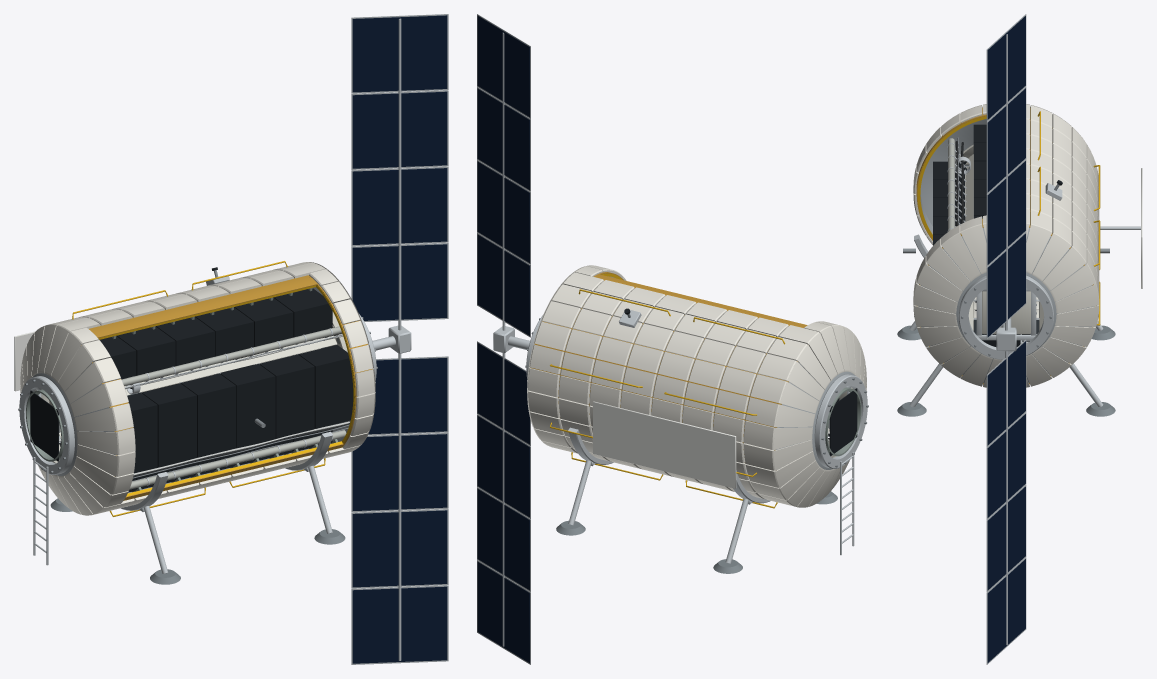
The model's file is habitat.glb.
The picture shows the model from 3 angles, left to right: view 1: azimuth 30°, elevation 25°; view 2: azimuth 150°, elevation 25°; view 3: azimuth 270°, elevation 25°; orthographic projection. The views are drawn at different scales.
Visible parts, largest first — view 1: Shell, OrbitKit_WingA, OrbitKit_WingB, FrontWall, Interior, SurfaceKit, OrbitKit; view 2: Shell, OrbitKit_WingA, OrbitKit_WingB, OrbitKit_Radiator, SurfaceKit, Interior, OrbitKit; view 3: Shell, OrbitKit_WingA, OrbitKit_WingB, Interior, FrontWall, SurfaceKit, Hatch, OrbitKit, OrbitKit_Radiator.
Part boxes in pixels (left/top/right/bottom): Shell: left=18, top=261, right=377, bottom=516; OrbitKit_WingA: left=351, top=14, right=448, bottom=330; OrbitKit_WingB: left=351, top=353, right=448, bottom=664; FrontWall: left=124, top=335, right=353, bottom=473; Interior: left=26, top=288, right=349, bottom=492; SurfaceKit: left=33, top=431, right=345, bottom=584; OrbitKit: left=372, top=325, right=411, bottom=353; Shell: left=525, top=265, right=868, bottom=508; OrbitKit_WingA: left=477, top=14, right=530, bottom=337; OrbitKit_WingB: left=477, top=341, right=530, bottom=664; OrbitKit_Radiator: left=593, top=401, right=736, bottom=488; SurfaceKit: left=556, top=427, right=854, bottom=573; Interior: left=825, top=385, right=861, bottom=457; OrbitKit: left=493, top=326, right=530, bottom=353; Shell: left=903, top=104, right=1109, bottom=387; OrbitKit_WingA: left=986, top=14, right=1026, bottom=338; OrbitKit_WingB: left=986, top=340, right=1026, bottom=664; Interior: left=947, top=124, right=1043, bottom=346; FrontWall: left=933, top=154, right=973, bottom=330; SurfaceKit: left=897, top=234, right=1115, bottom=416; Hatch: left=982, top=291, right=1030, bottom=334; OrbitKit: left=996, top=318, right=1016, bottom=351; OrbitKit_Radiator: left=1100, top=168, right=1142, bottom=288.
Size of the model in its own units: 10.65 by 16.54 by 5.98.
